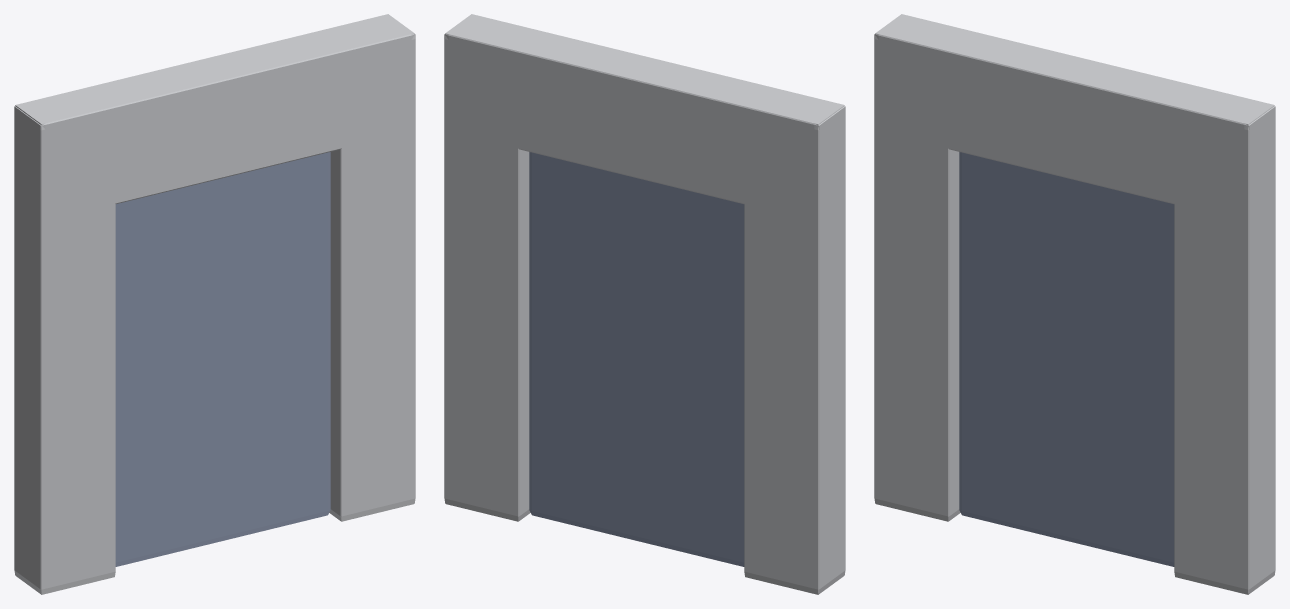
The model's file is WallDoor.glb.
3 renders of one model, left to right at view 1: azimuth 30°, elevation 25°; view 2: azimuth 150°, elevation 25°; view 3: azimuth 330°, elevation 25°, orthographic.
Visible parts, largest first — view 1: Door, PostL, Lintel, PostR; view 2: Door, Lintel, PostL, PostR; view 3: Door, Lintel, PostR, PostL.
Boxes of the visible parts, x1,y1,x2,y2 form: Door: (115,152,330,566); PostL: (14,95,115,594); Lintel: (14,18,415,220); PostR: (316,14,415,521); Door: (529,152,744,566); Lintel: (444,17,845,220); PostL: (744,93,845,594); PostR: (444,14,543,521); Door: (959,152,1174,566); Lintel: (874,18,1275,220); PostR: (1174,90,1275,594); PostL: (874,14,972,521).
Bounding box in the file's own units: 2 × 2.4 × 0.25.
